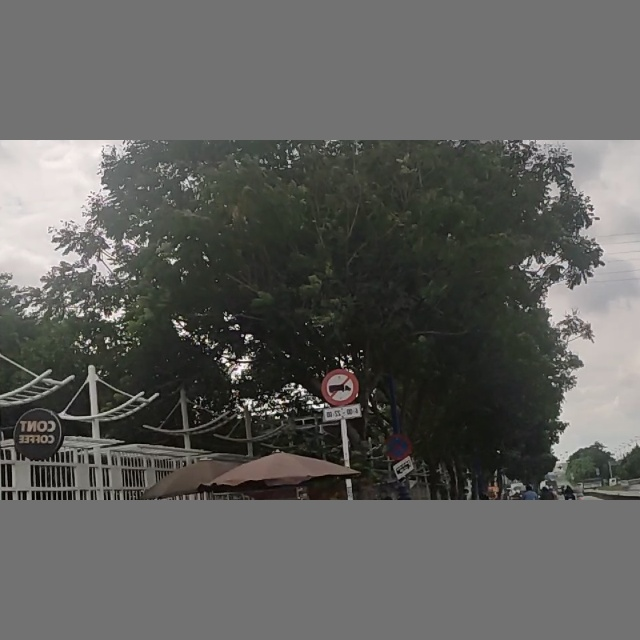B.8a: (325, 369, 361, 420)
